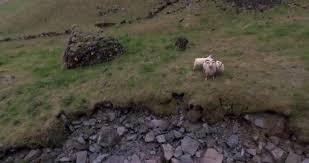sheep: (194, 55, 212, 72), (203, 60, 216, 80), (216, 59, 224, 74)
